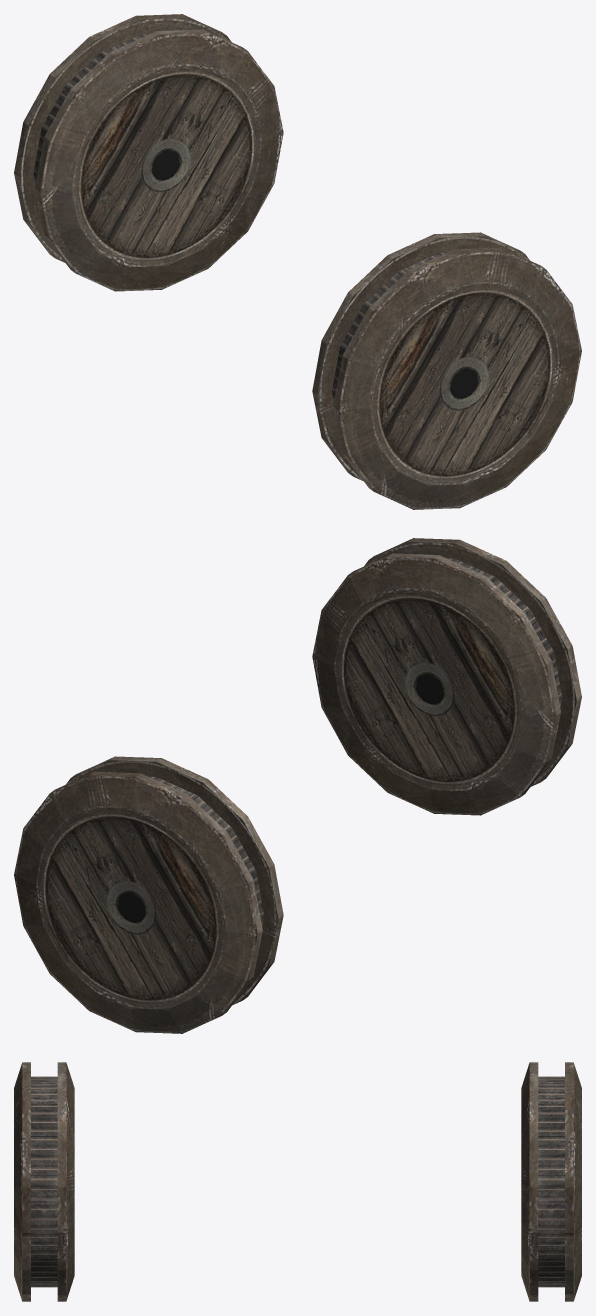
The model's file is bg_lut_lutomb_ev01c_sm_old.FBX.
3 renders of one model, top to bottom at view 1: azimuth 30°, elevation 25°; view 2: azimuth 150°, elevation 25°; view 3: azimuth 270°, elevation 25°, orthographic. The views are drawn at different scales.
Visible parts, largest first — view 1: bg_lut_lutomb_ev01c_sm_old; view 2: bg_lut_lutomb_ev01c_sm_old; view 3: bg_lut_lutomb_ev01c_sm_old.
Part boxes in pixels (left/top/right/bottom): bg_lut_lutomb_ev01c_sm_old: left=14, top=14, right=581, bottom=509; bg_lut_lutomb_ev01c_sm_old: left=14, top=538, right=581, bottom=1033; bg_lut_lutomb_ev01c_sm_old: left=14, top=1062, right=581, bottom=1301.
Size of the model in its own units: 98.03 by 98.03 by 233.
